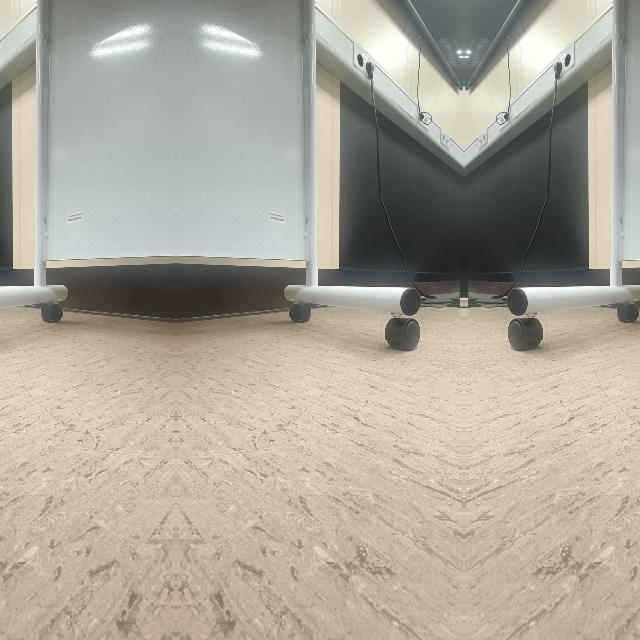obstacle: (178, 172, 428, 360), (0, 172, 172, 359), (498, 172, 640, 359)
